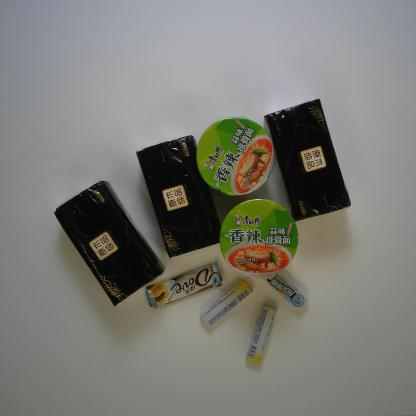Candy: (200, 280, 254, 327), (261, 270, 309, 312), (245, 303, 277, 365)
Chocolate: (144, 260, 223, 310)
Instant Noodles: (196, 117, 276, 197), (220, 198, 298, 278)
Tissue: (53, 179, 165, 307), (264, 98, 352, 222), (136, 135, 222, 258)
